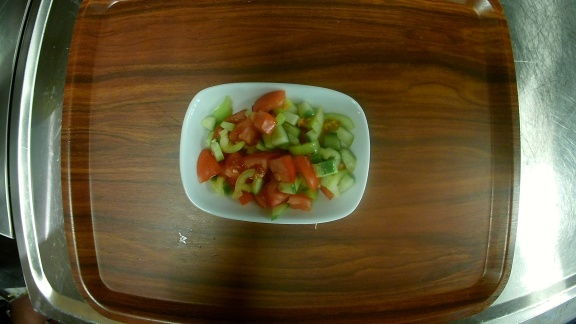cobansalata: (180, 81, 372, 225)
